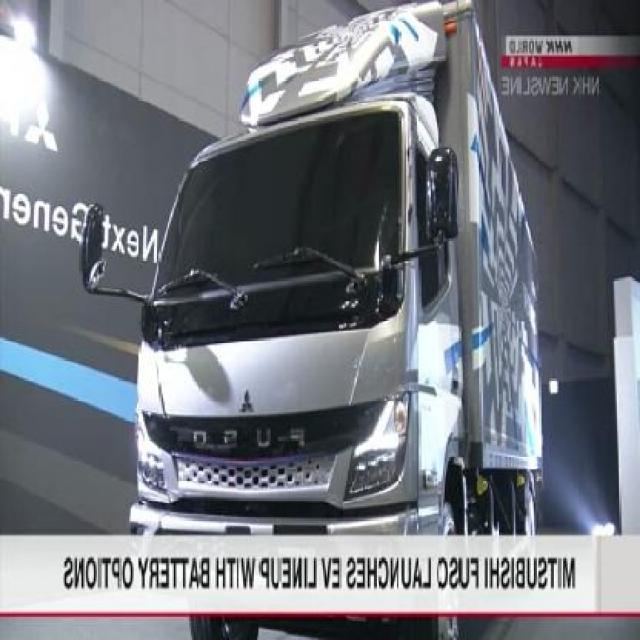truck: (81, 1, 546, 535)
